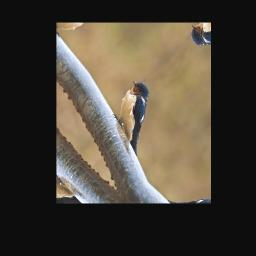Swallow: (103, 74, 172, 156)
